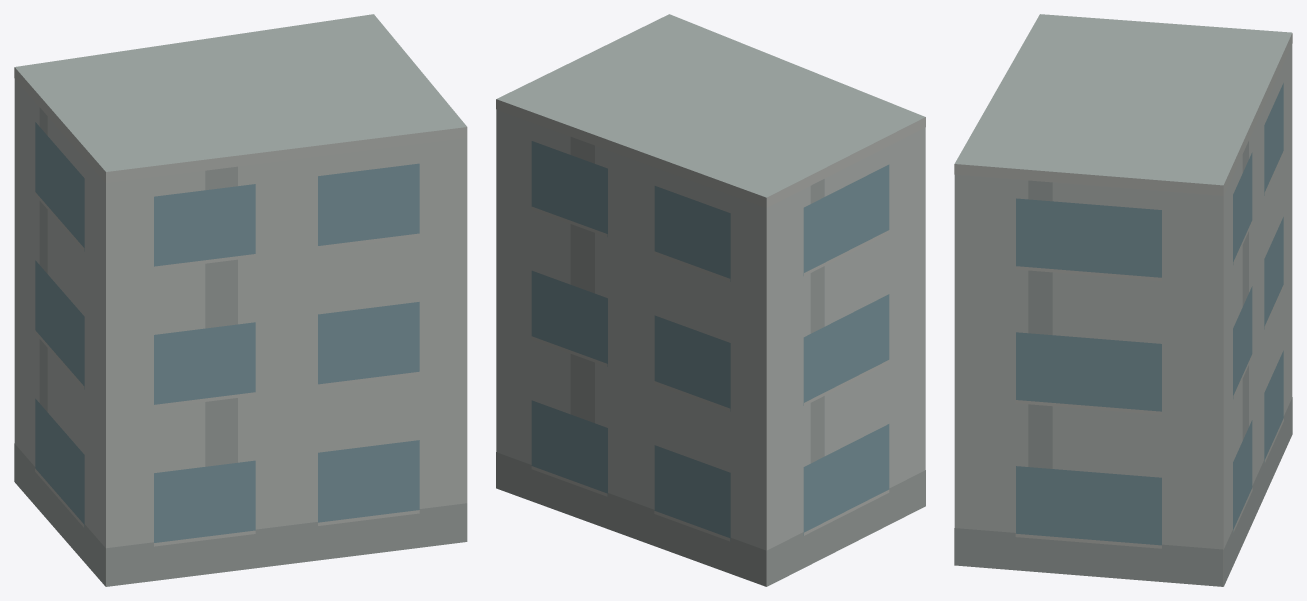
The model's file is survey-upis-32697929.glb.
The picture shows the model from 3 angles, left to right: view 1: azimuth 30°, elevation 25°; view 2: azimuth 150°, elevation 25°; view 3: azimuth 270°, elevation 25°; orthographic projection. The views are drawn at different scales.
Parts seen in each view (by area): view 1: survey-upis-32697929.tmp; view 2: survey-upis-32697929.tmp; view 3: survey-upis-32697929.tmp.
Boxes of the visible parts, x1=… form: survey-upis-32697929.tmp: x1=14, y1=14, x2=467, y2=586; survey-upis-32697929.tmp: x1=496, y1=14, x2=925, y2=586; survey-upis-32697929.tmp: x1=954, y1=14, x2=1292, y2=586.
Bounding box in the file's own units: 8.39 × 9.15 × 6.99.
